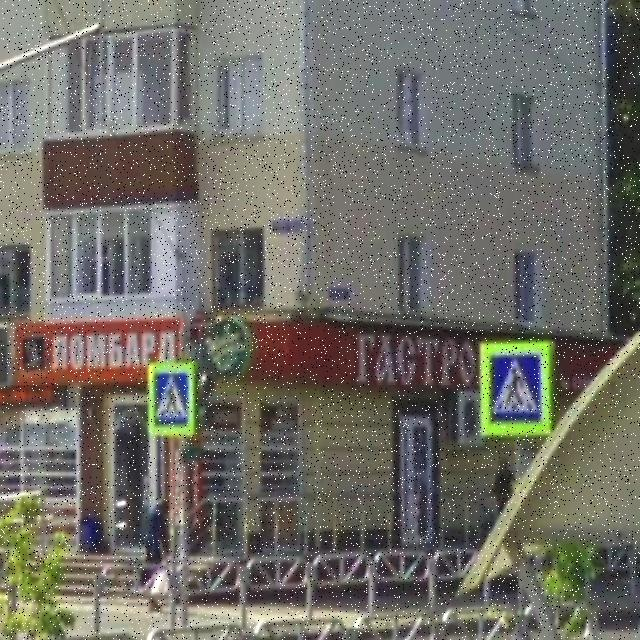Przejscie dla pieszych: (477, 339, 557, 439), (143, 358, 200, 439)
